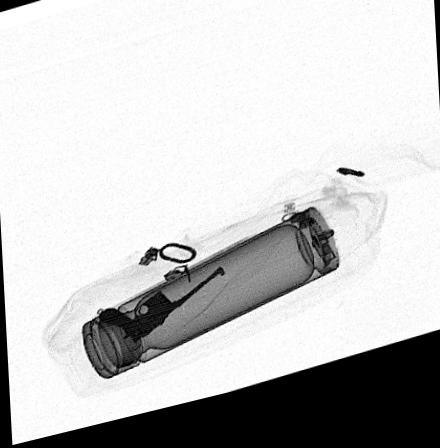Gun: (94, 277, 226, 350)
